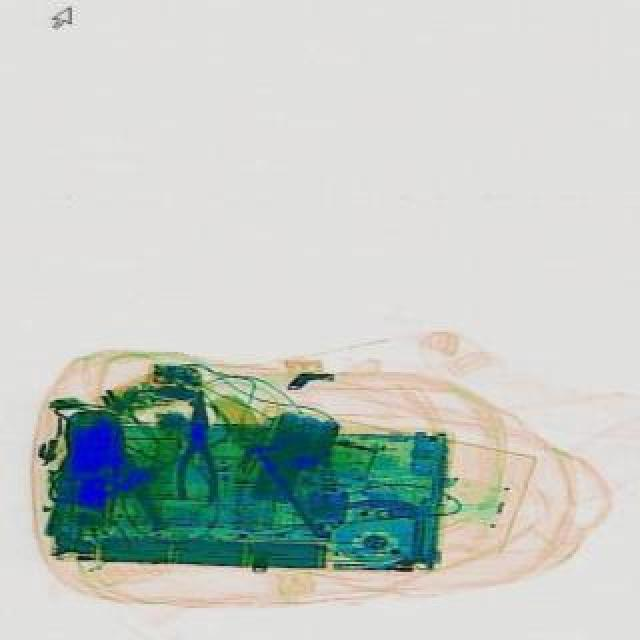wrench: (182, 386, 228, 506)
